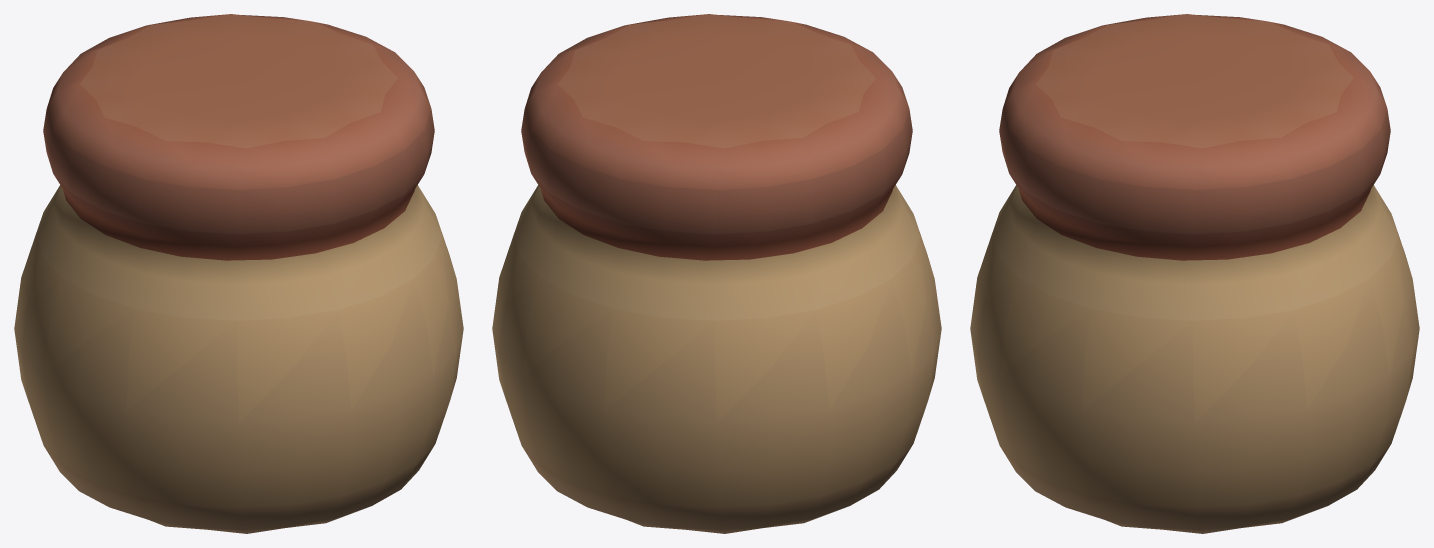
The model's file is prop_jar_c.glb.
3 views of the same model, side by side, from view 1: azimuth 30°, elevation 25°; view 2: azimuth 150°, elevation 25°; view 3: azimuth 270°, elevation 25° (orthographic).
Parts seen in each view (by area): view 1: refined; view 2: refined; view 3: refined.
Boxes of the visible parts, box(x1,y1,x2,y2) form: refined: box(14, 14, 463, 533); refined: box(492, 14, 941, 533); refined: box(970, 14, 1419, 533).
Size of the model in its own units: 0.566 by 0.55 by 0.566.
